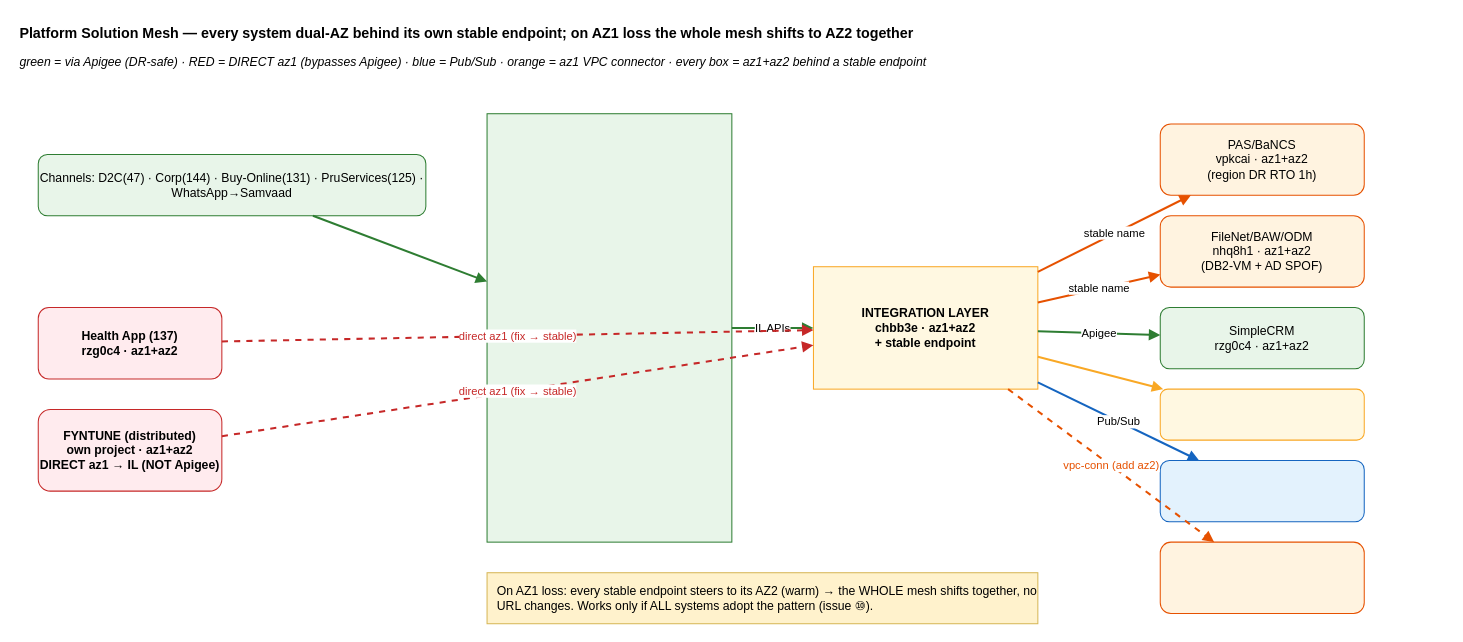
The diagram is 1463 pixels wide and 642 high, and some of its shapes have lost their labels. Here are the shapes that lost their labels. From the top down, the centre of each, then its label:
At pixel 609 327: "APIGEE GATEWAY (zone-agnostic)".
At pixel 1261 414: "PIXEL/DocDigit az1+az2".
At pixel 1261 491: "CHUB/Comms Pub/Sub + REST · az1+az2".
At pixel 1261 577: "Samvaad f950ic · az1+az2 (add az2 VPC connector)".
